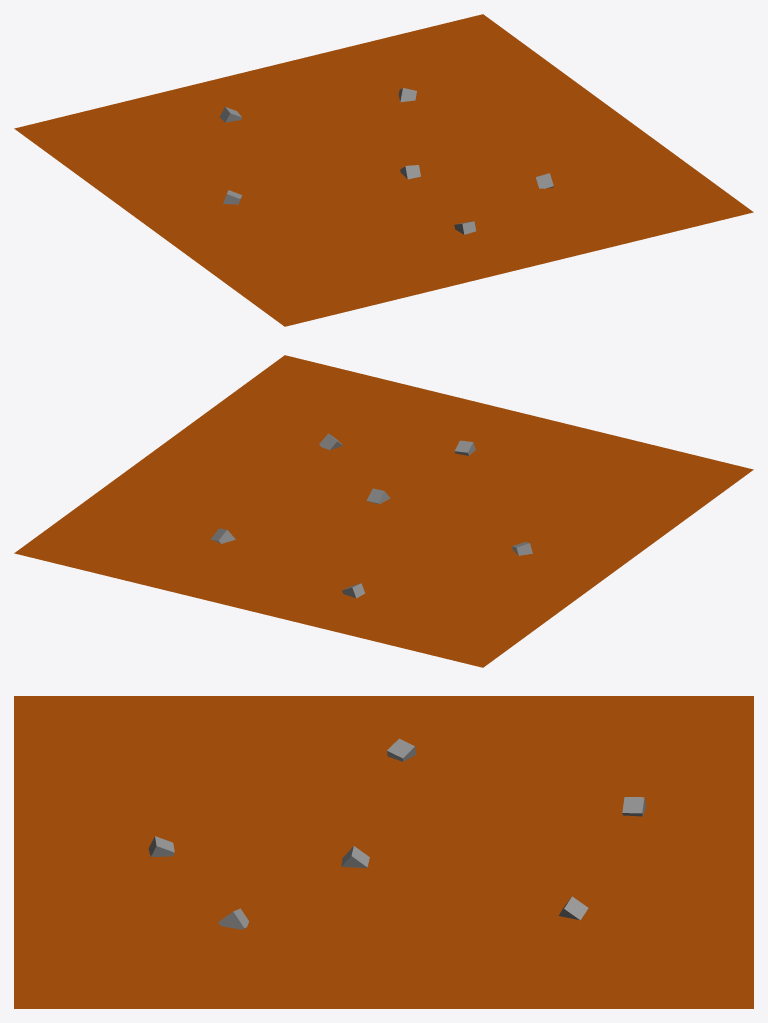
File: sol map clair.fbx
3 renders of one model, top to bottom at view 1: azimuth 30°, elevation 25°; view 2: azimuth 150°, elevation 25°; view 3: azimuth 270°, elevation 25°, orthographic. The views are drawn at different scales.
Visible parts, largest first — view 1: sol claire; view 2: sol claire; view 3: sol claire.
Part boxes in pixels (<box>): sol claire: <box>14,14,753,326</box>; sol claire: <box>14,355,753,667</box>; sol claire: <box>14,696,753,1008</box>.
Bounding box in the file's own units: 200 × 8.84 × 200.
